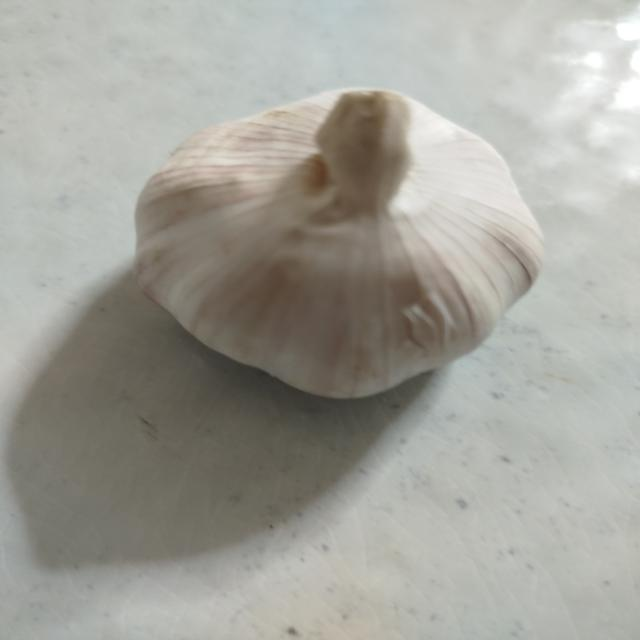garlic: (132, 86, 546, 400)
